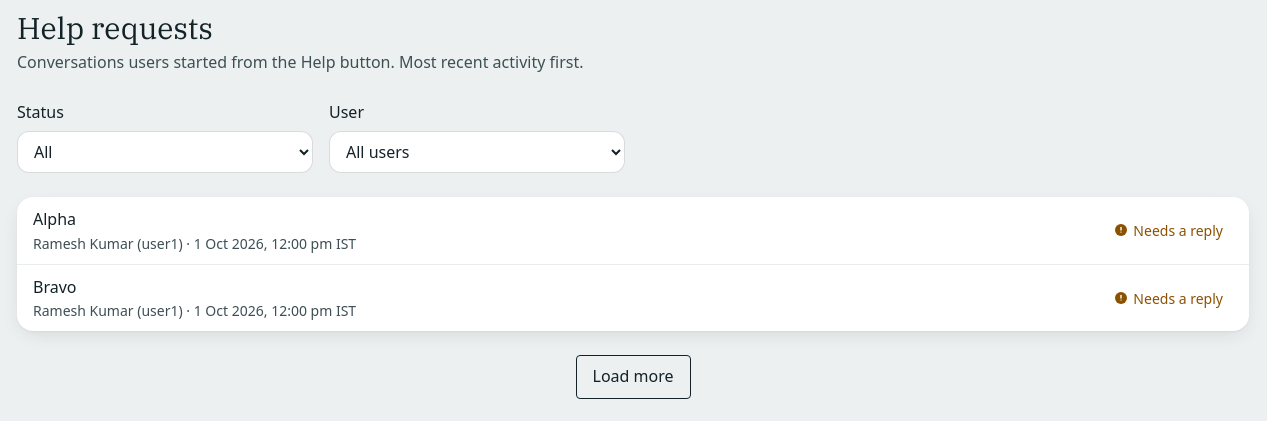
Test: HelpInboxPage › renders a request that appears on two pages exactly once
This screenshot has width=1267, height=421.
Expected: the text "Alpha" is shown, [33, 208, 76, 230]
Click the button named "Load more" at {"x": 633, "y": 377}, box [576, 355, 690, 399]
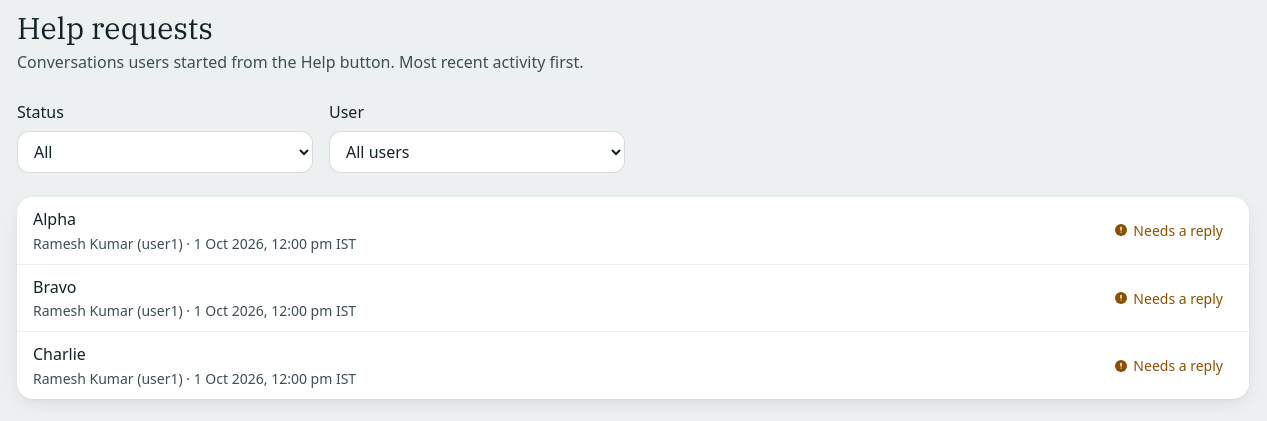
Now the text "Charlie" is shown, box [33, 343, 86, 365]
Now the number of list items with test id "issue-row" is 3, box [17, 197, 1249, 264]; [17, 264, 1249, 331]; [17, 331, 1249, 399]
Now the text "Bravo" is shown once, box [33, 276, 76, 298]
